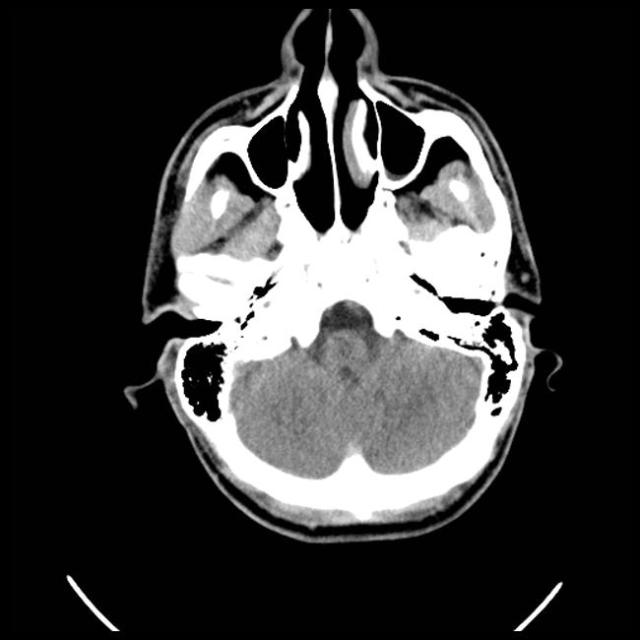lesion: (123, 7, 559, 545)
